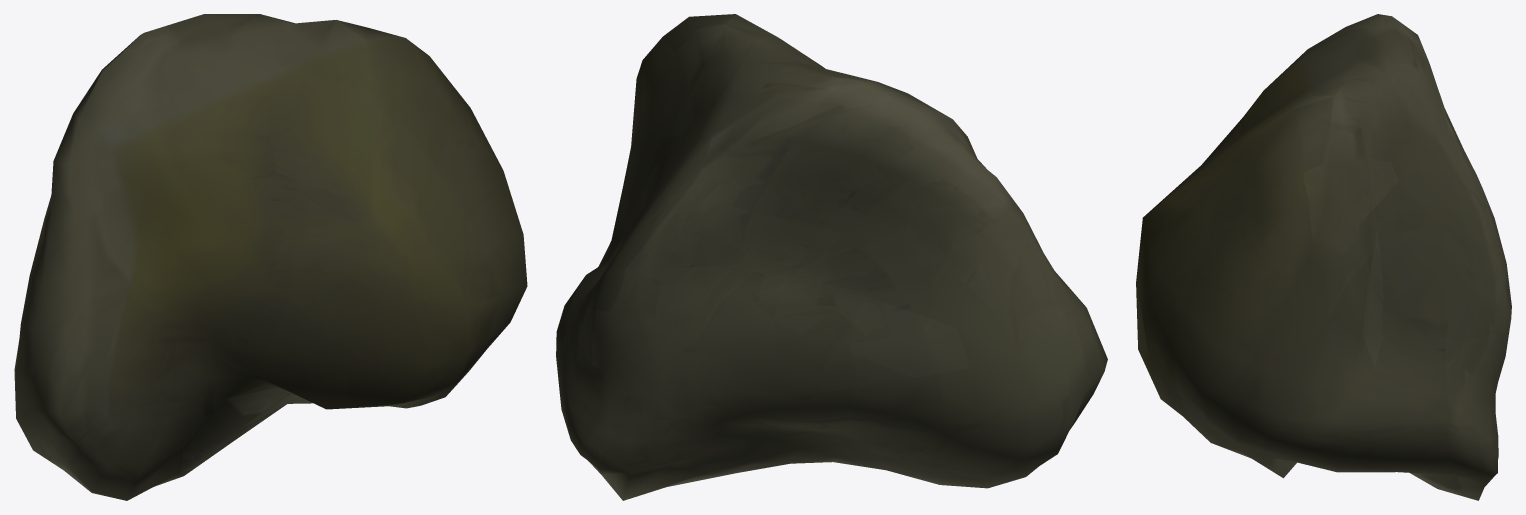
Rendered from Stpne3.fbx.
3 views of the same model, side by side, from view 1: azimuth 30°, elevation 25°; view 2: azimuth 150°, elevation 25°; view 3: azimuth 270°, elevation 25° (orthographic). The views are drawn at different scales.
Visible parts, largest first — view 1: Cube; view 2: Cube; view 3: Cube.
Boxes of the visible parts, x1,y1,x2,y2 form: Cube: (14,14,527,500); Cube: (556,14,1107,500); Cube: (1136,14,1511,500).
Size of the model in its own units: 33.42 by 28.72 by 24.57.
1 material, 1 textured.
